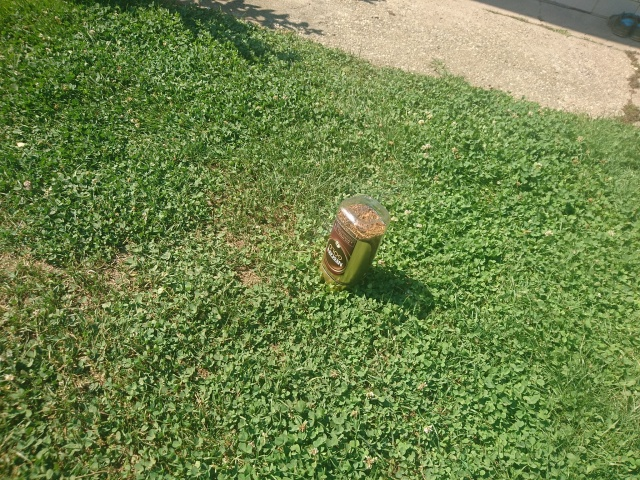Nescafe Gold 225g: (313, 190, 394, 296)
